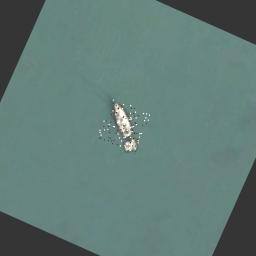boat: (96, 98, 150, 154)
